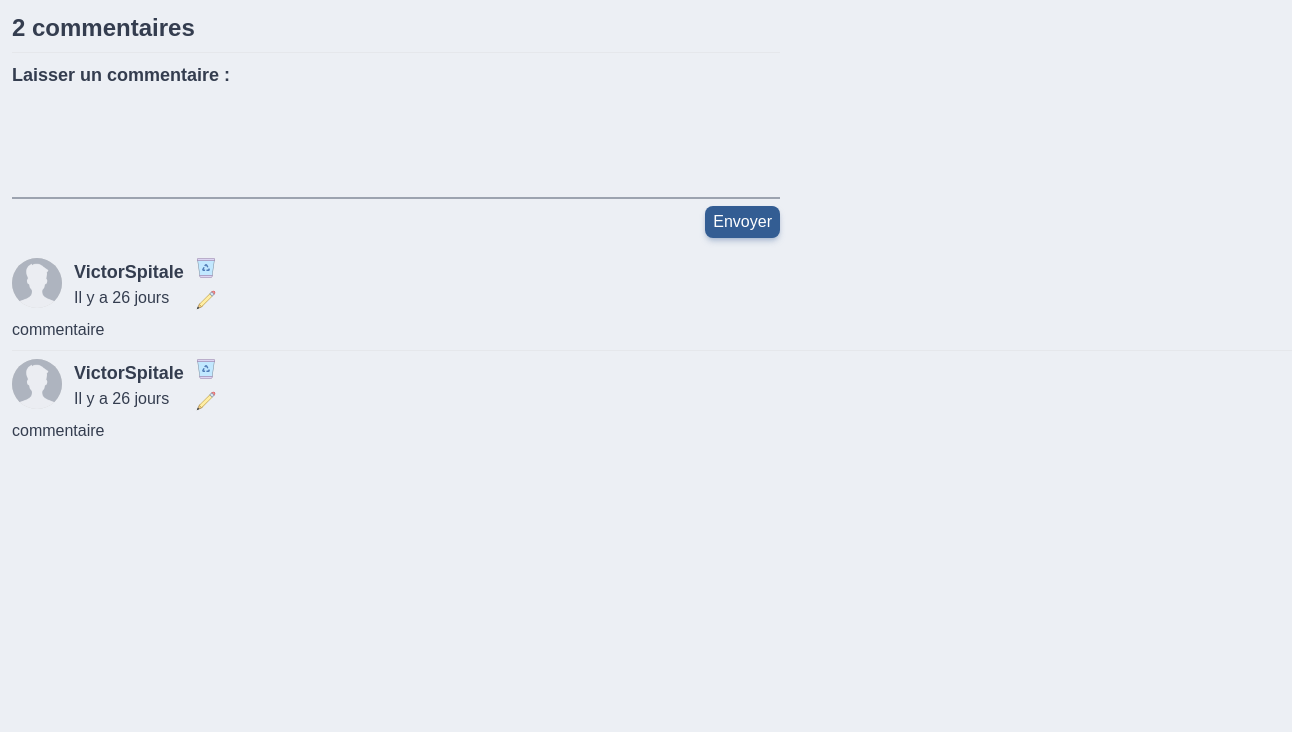
Test: CommentsTest › should fail to update a comment
Click the 2nd icon: point(206, 300) [196,290,216,310]
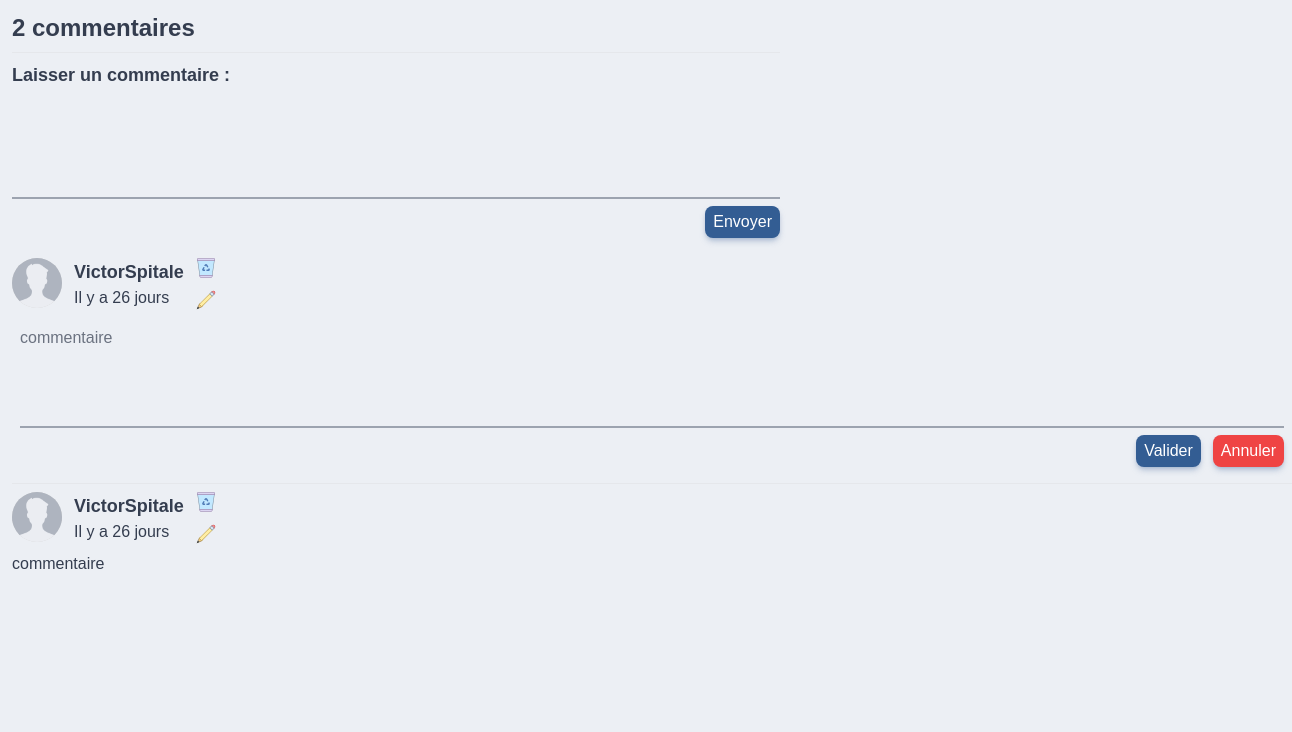
Replace the text in the 2nd text box with "new comment": point(652, 377) [20,326,1284,428]
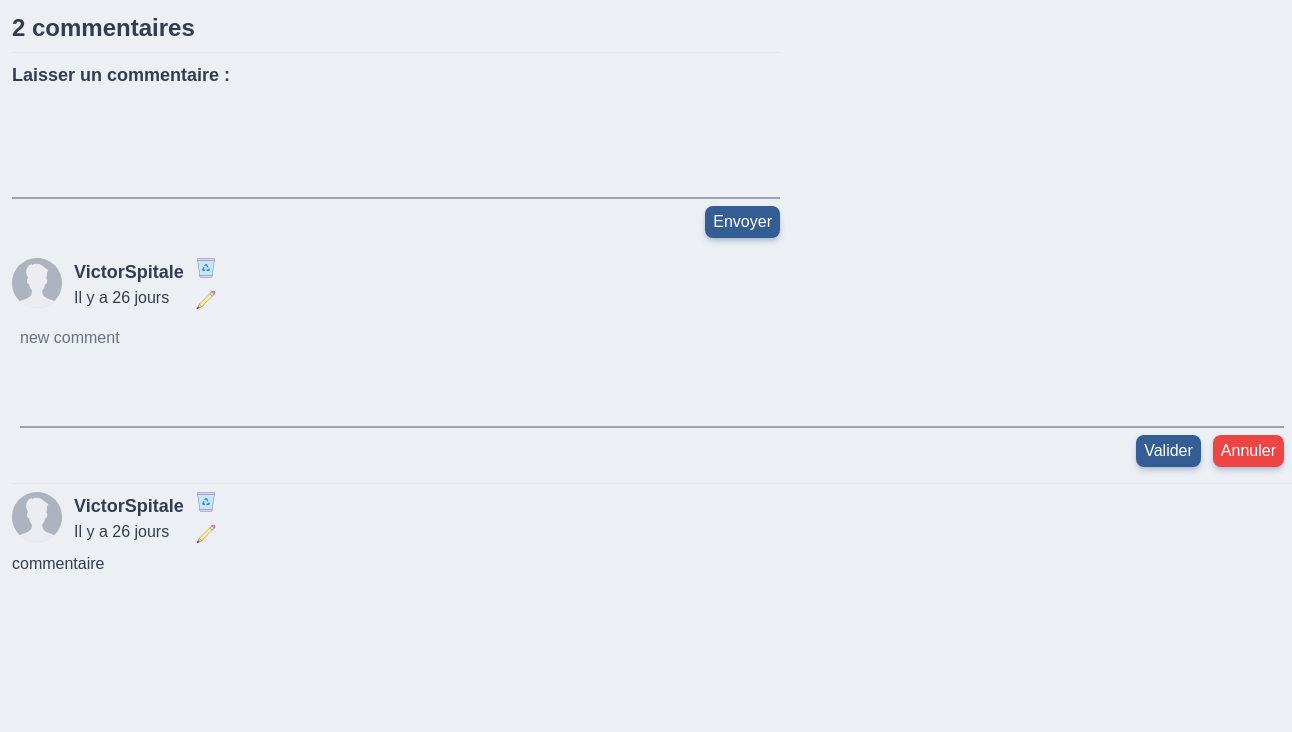
Click the button "Valider": point(1168, 451) [1136,435,1201,467]
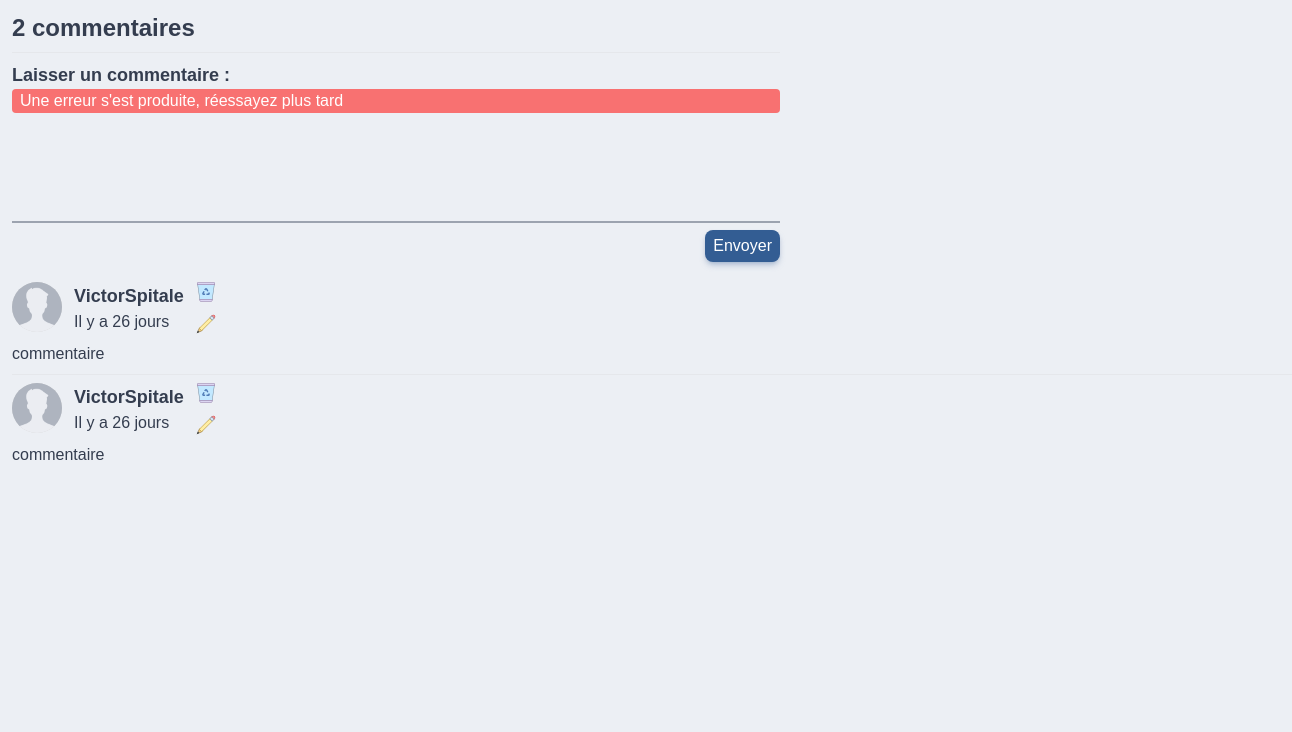
Result: the text "Une erreur s'est produite, réessayez plus tard" is shown at [12,89,780,113]
